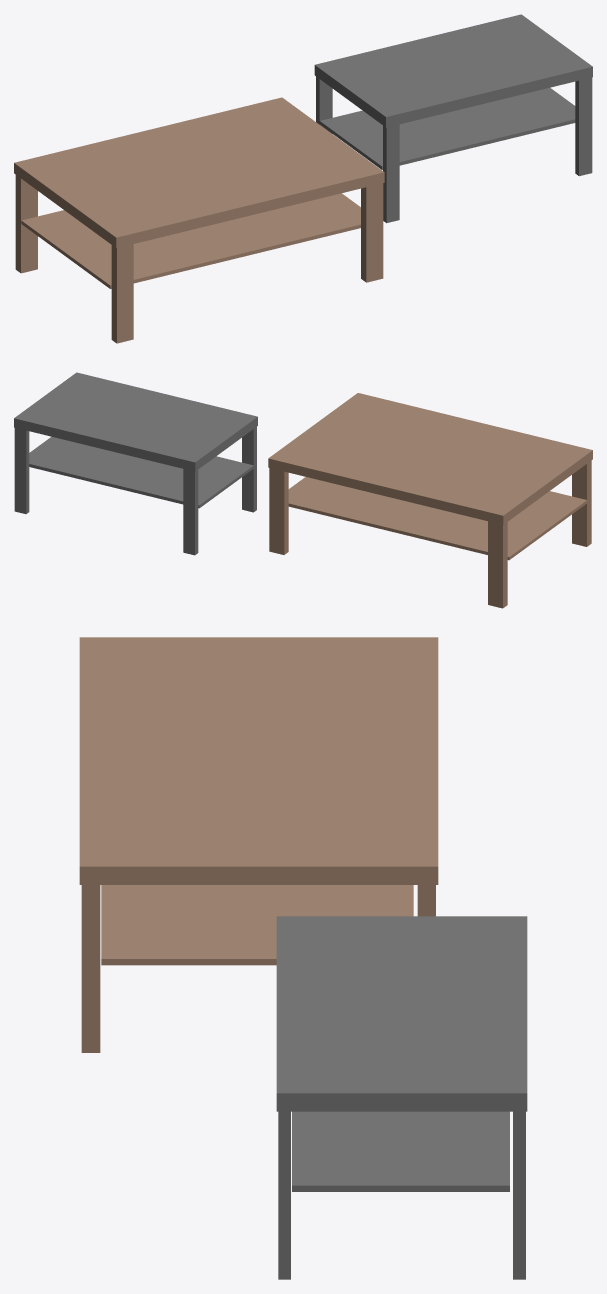
The model's file is IKEA-Lack_Coffe_Table-3D.obj.
3 views of the same model, one above another, from view 1: azimuth 30°, elevation 25°; view 2: azimuth 150°, elevation 25°; view 3: azimuth 270°, elevation 25° (orthographic). The views are drawn at different scales.
Visible parts, largest first — view 1: Layer_0; view 2: Layer_0; view 3: Layer_0.
Boxes of the visible parts, x1,y1,x2,y2 form: Layer_0: [14, 14, 592, 343]; Layer_0: [14, 372, 592, 608]; Layer_0: [79, 637, 527, 1279].
Bounding box in the file's own units: 2346 × 449 × 974.
